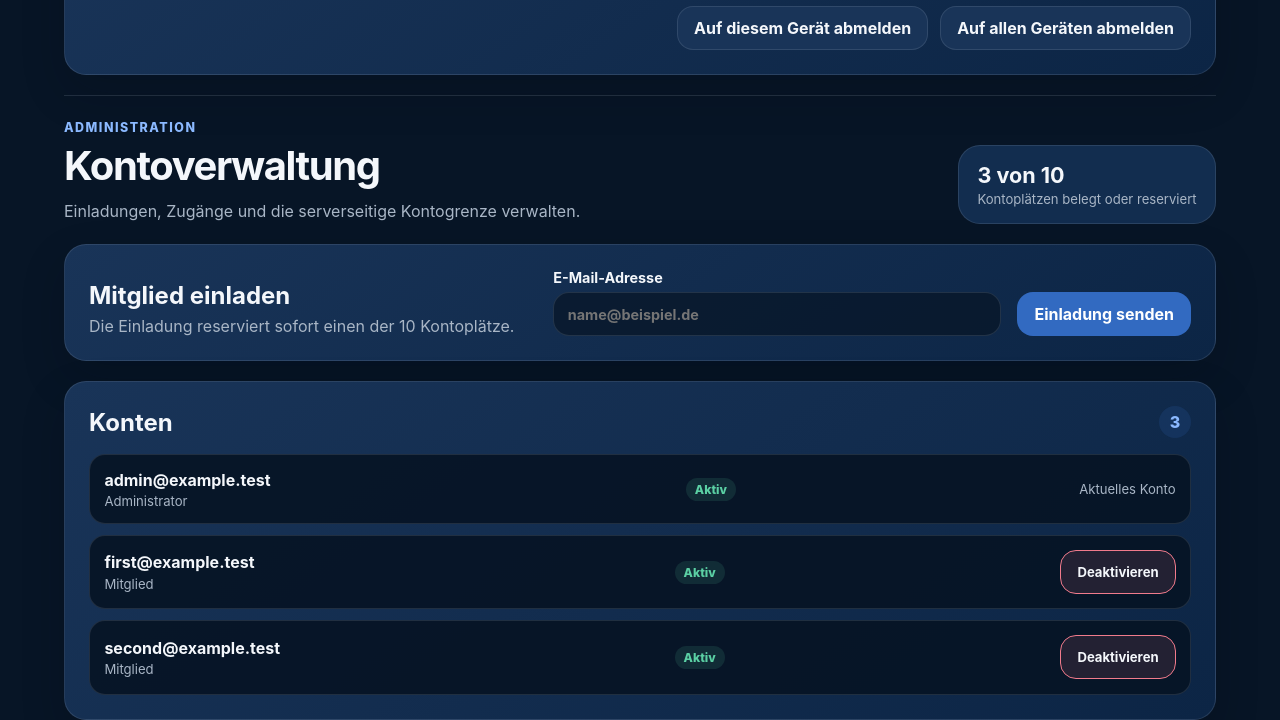
Test: SettingsPage › does not carry a failed deactivation error to another account
The image size is (1280, 720).
(page scrolled)
Click the button with aria-label "Konto von first@example.test deaktivieren": (1118, 572) [1060, 550, 1176, 594]
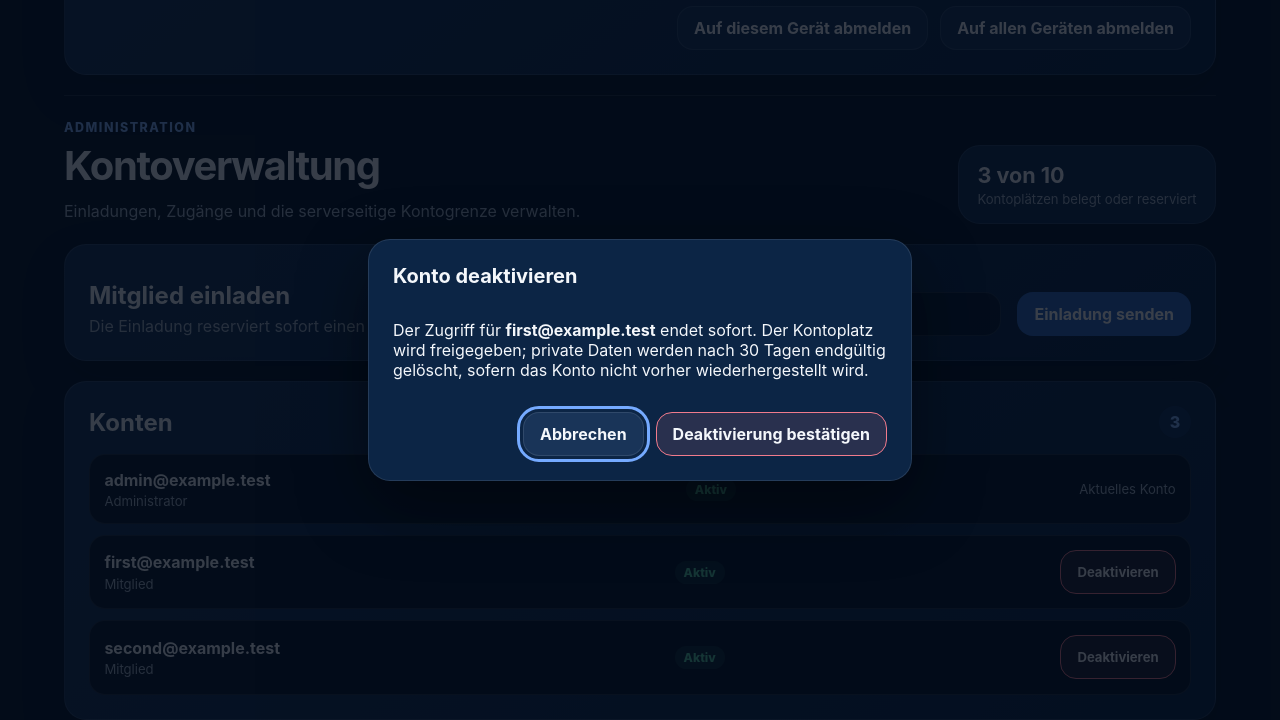
Click the button "Deaktivierung bestätigen": (771, 434) [656, 412, 887, 456]
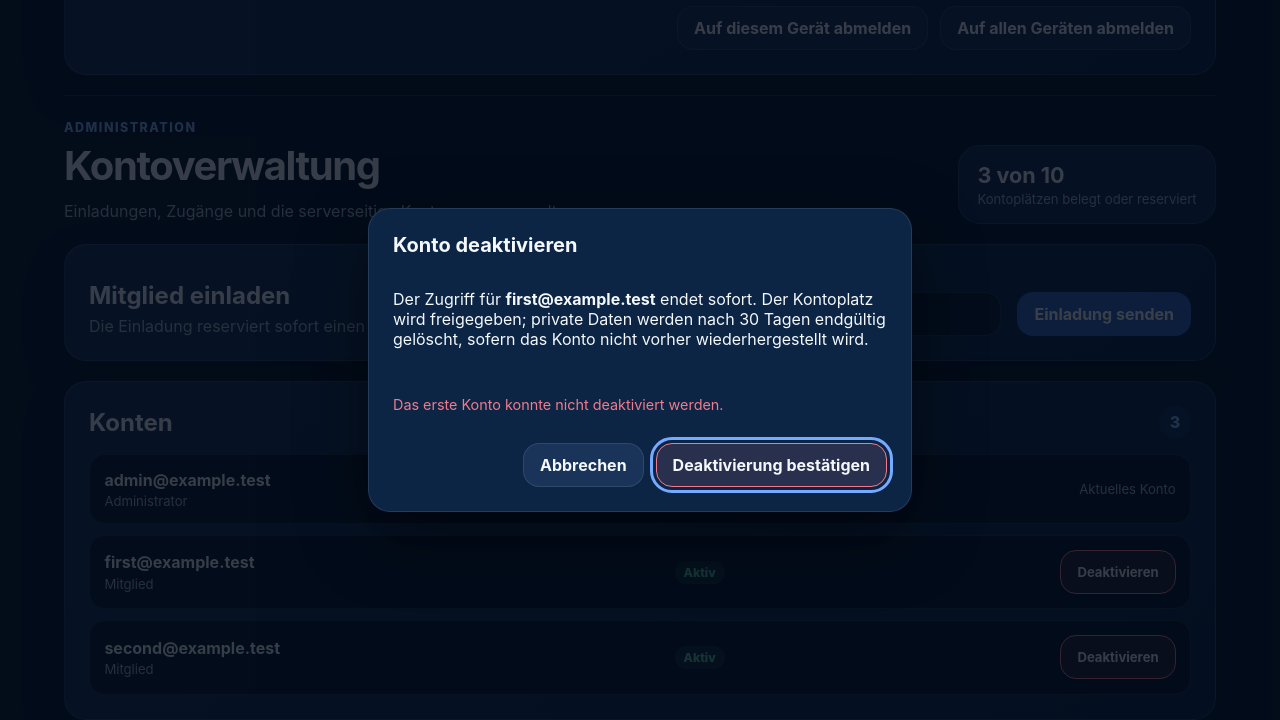
Now the message reads "Das erste Konto konnte nicht deaktiviert werden.", box [393, 396, 724, 412]
Click the button "Abbrechen": (583, 465) [523, 443, 644, 487]
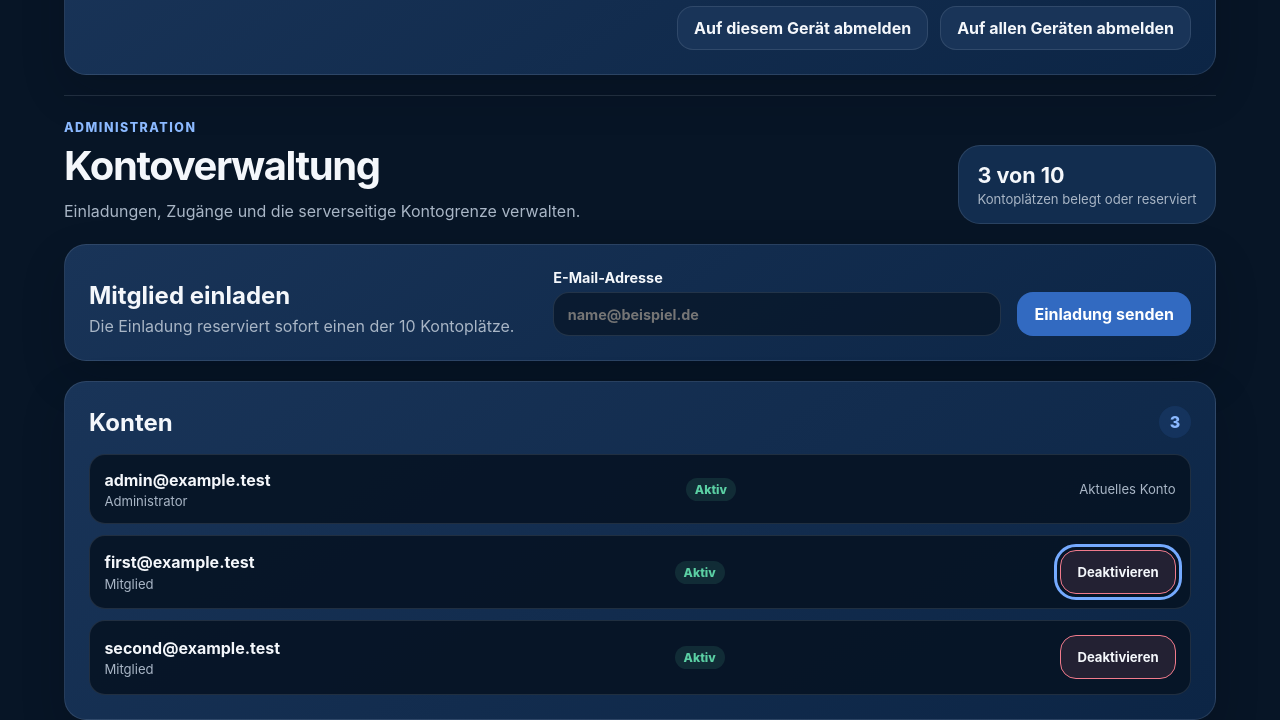
Click the button with aria-label "Konto von second@example.test deaktivieren": (1118, 657) [1060, 635, 1176, 679]
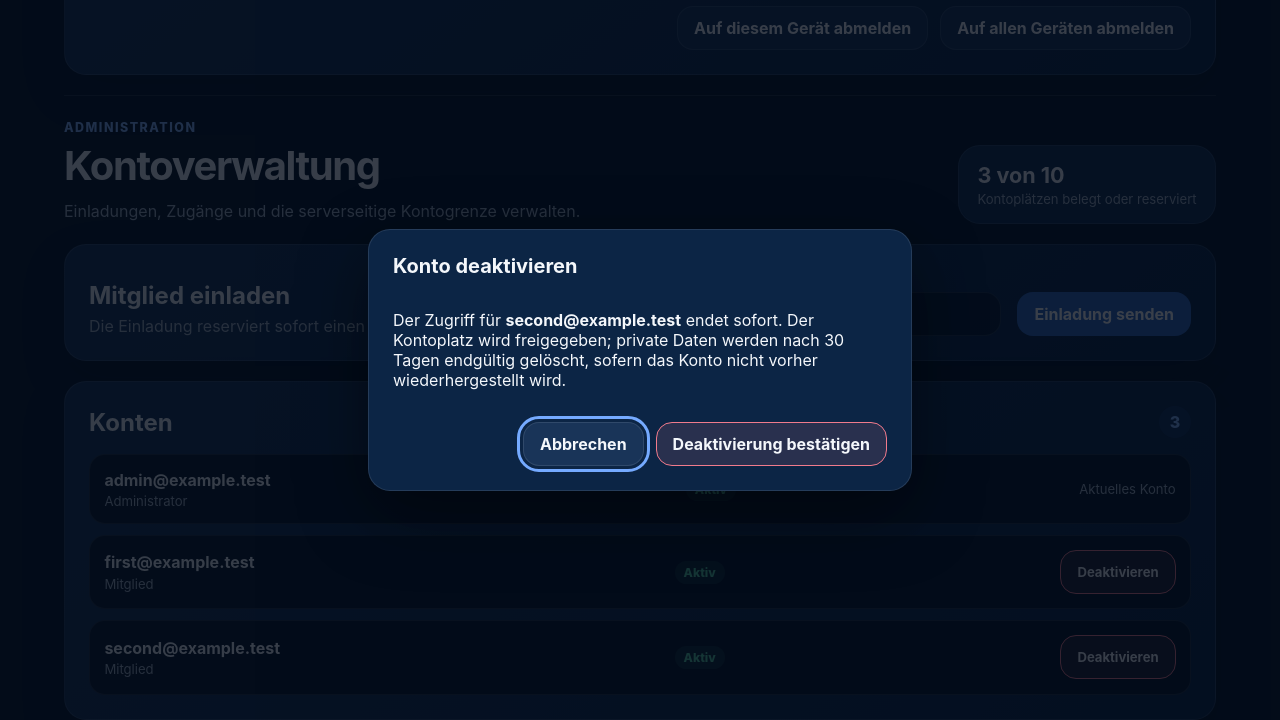
Expected: the message "Das erste Konto konnte nicht deaktiviert werden." is not shown
Now the text "second@example.test" is shown, box [505, 310, 681, 330]
